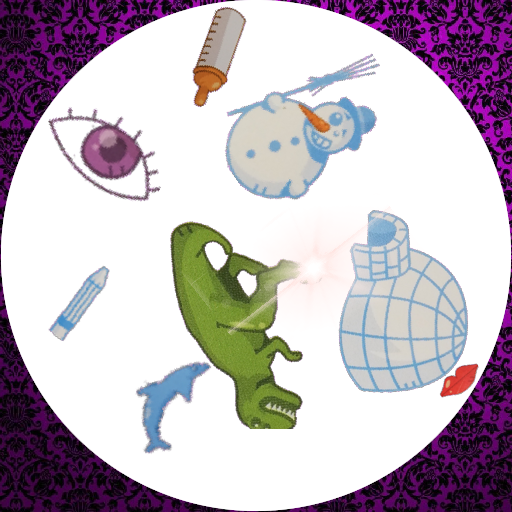bottle_icon: (162, 3, 269, 110)
dino_icon: (119, 217, 331, 429)
dolphin_icon: (115, 348, 225, 458)
eye_icon: (40, 90, 169, 219)
igloo_icon: (297, 204, 489, 396)
lips_icon: (437, 359, 485, 407)
pen_icon: (39, 260, 124, 345)
snowman_icon: (214, 27, 397, 210)
